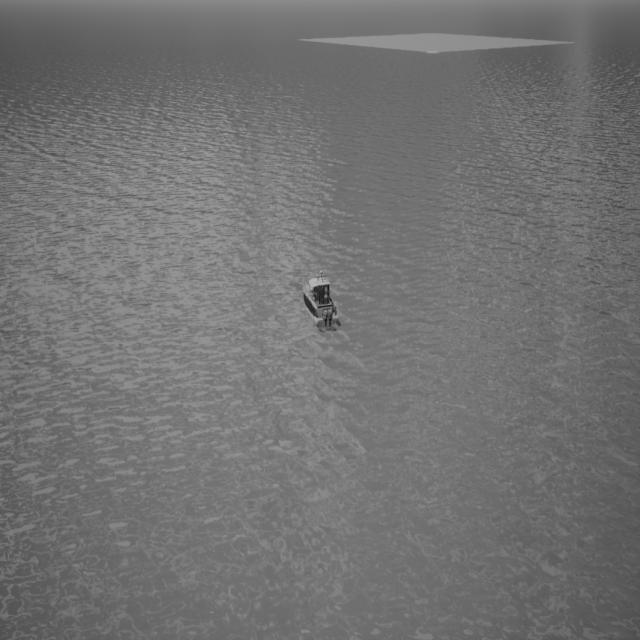ship: (296, 268, 346, 336)
